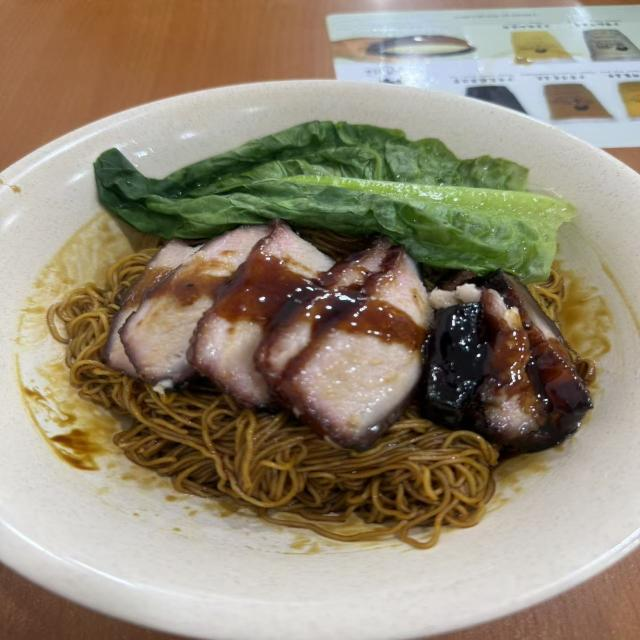Wantan Mee: (45, 84, 616, 566)
